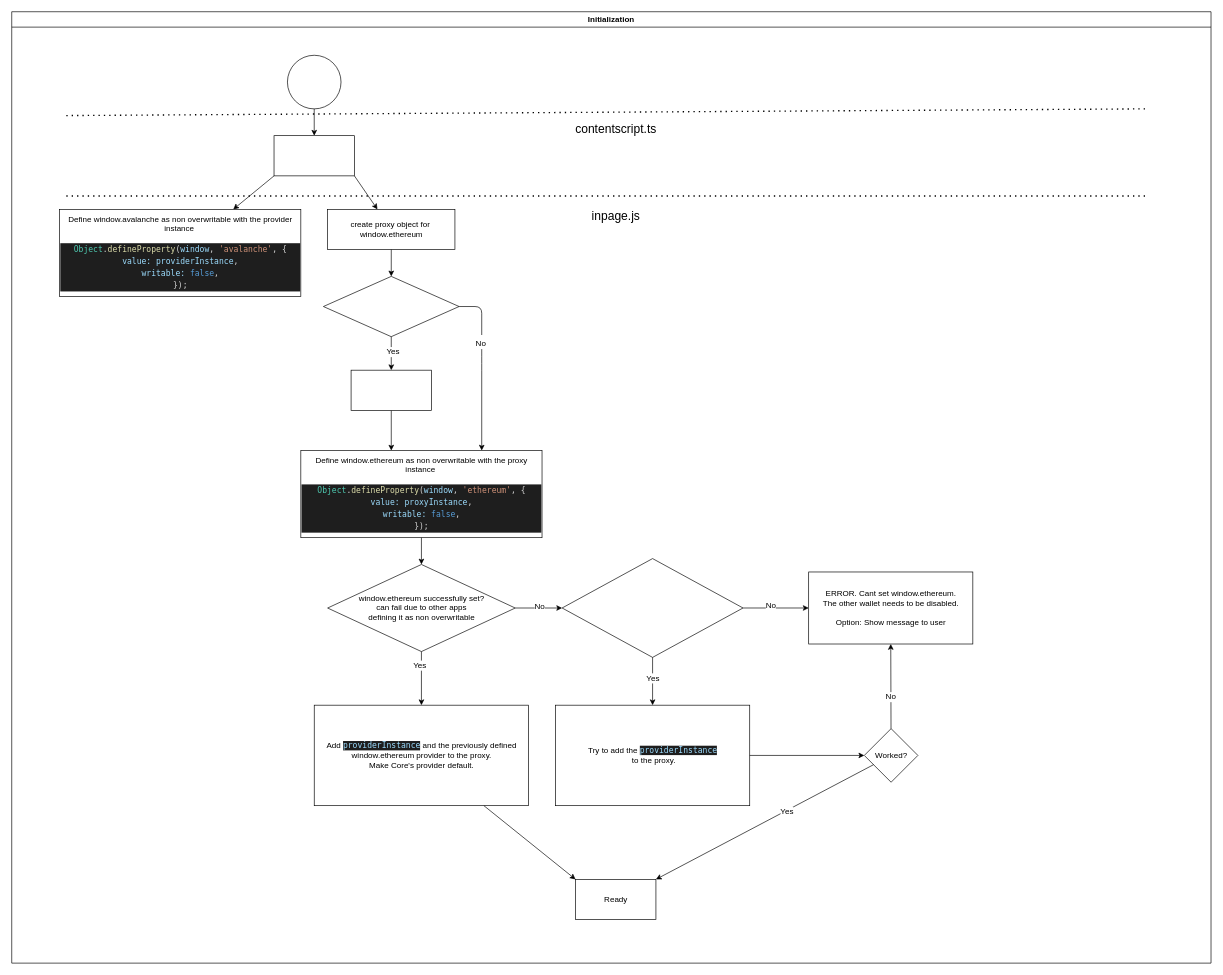
Image size: 1223x975. Some labels were removed from this diagram. Each missing label, with the box of its shape:
contentscript.js injects the inpage.js and opens Port for communication: (273, 135, 354, 176)
dApp loaded: (287, 55, 341, 109)
Is window.ethereum a proxy already? Can happen in case of Coinbase for example: (561, 558, 743, 657)
is window.ethereum already defined: (323, 276, 459, 337)
Save current provider to temporary var: (350, 370, 431, 410)
